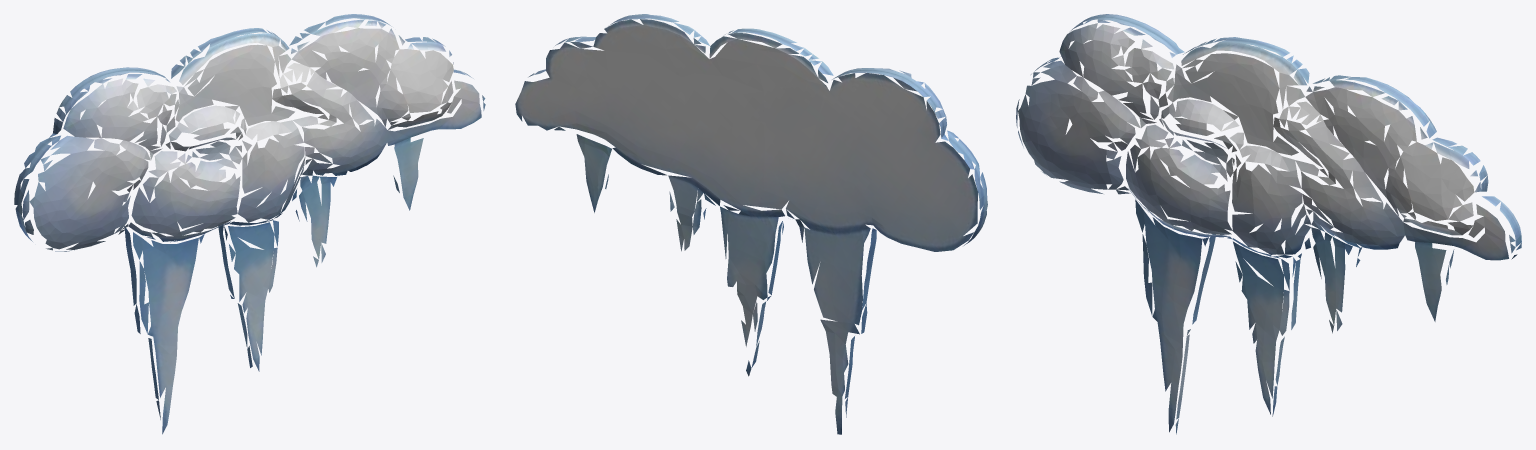
Rendered from spike_cloud1.glb.
3 views of the same model, side by side, from view 1: azimuth 30°, elevation 25°; view 2: azimuth 150°, elevation 25°; view 3: azimuth 330°, elevation 25° (orthographic). The views are drawn at different scales.
Parts seen in each view (by area): view 1: world.001; view 2: world.001; view 3: world.001.
Part boxes in pixels (x1,y1,x2,y2): world.001: [14, 14, 485, 434]; world.001: [515, 14, 987, 434]; world.001: [1016, 14, 1521, 434].
Size of the model in its own units: 0.9989 by 0.7884 by 0.0791.
Materials: 1 (1 with a texture image).
